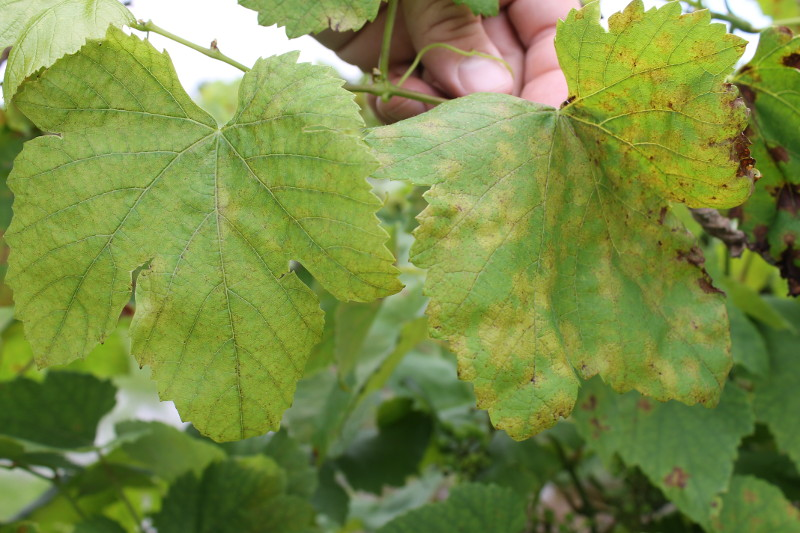downy: (42, 80, 314, 352), (579, 42, 746, 209), (579, 217, 709, 347), (455, 280, 571, 396), (435, 159, 549, 273), (486, 98, 541, 153), (604, 351, 652, 399), (501, 400, 534, 433), (539, 396, 567, 424)
